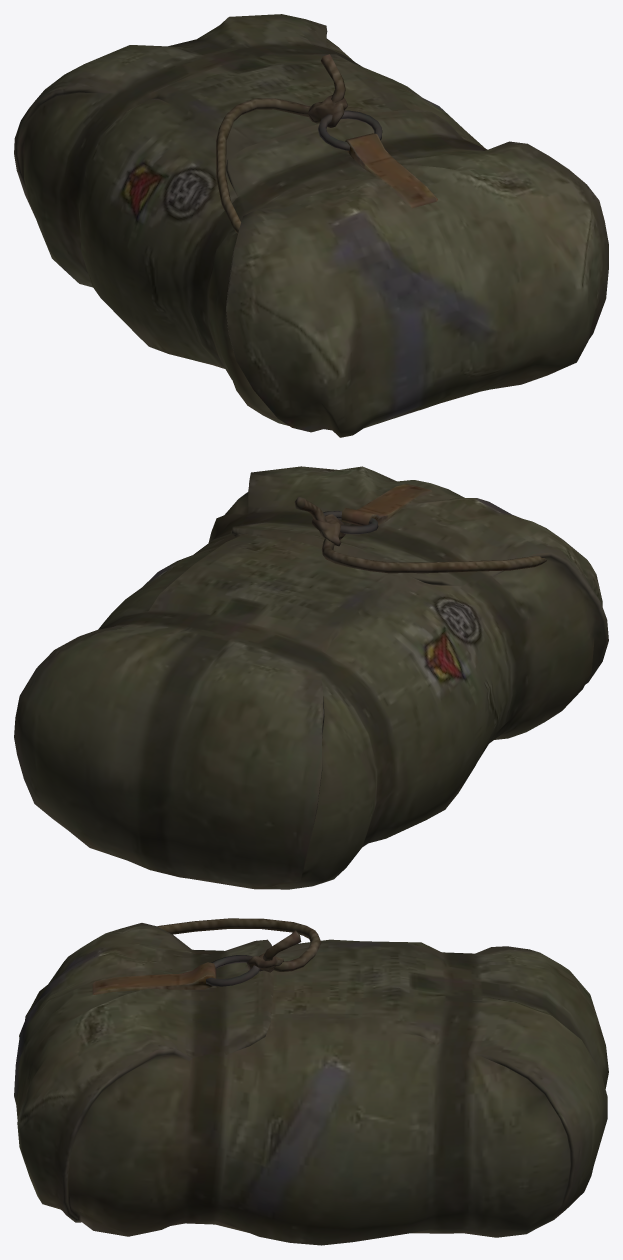
Rendered from parachutebackpack.worldmodel.glb.
The picture shows the model from 3 angles, top to bottom: view 1: azimuth 30°, elevation 25°; view 2: azimuth 150°, elevation 25°; view 3: azimuth 270°, elevation 25°; orthographic projection. The views are drawn at different scales.
Visible parts, largest first — view 1: Parachute_Bag_WM_LOD0; view 2: Parachute_Bag_WM_LOD0; view 3: Parachute_Bag_WM_LOD0.
Part boxes in pixels (x1,y1,x2,y2): Parachute_Bag_WM_LOD0: [14, 14, 608, 437]; Parachute_Bag_WM_LOD0: [14, 466, 608, 889]; Parachute_Bag_WM_LOD0: [14, 918, 608, 1245].
Bounding box in the file's own units: 0.3414 × 0.2537 × 0.5051.
Materials: 1 (1 with a texture image).
